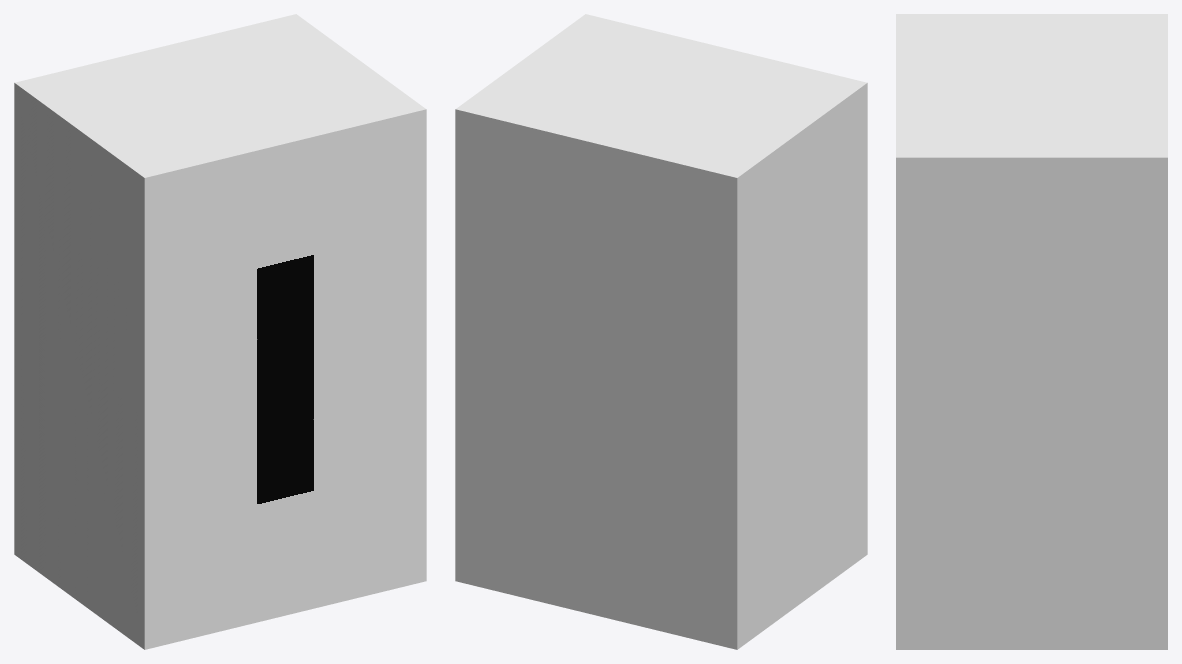
File: Body.dae
3 views of the same model, side by side, from view 1: azimuth 30°, elevation 25°; view 2: azimuth 150°, elevation 25°; view 3: azimuth 270°, elevation 25° (orthographic). The views are drawn at different scales.
Parts seen in each view (by area): view 1: Body; view 2: Body; view 3: Body.
Boxes of the visible parts, bbox=[...] form: Body: bbox=[14, 14, 426, 649]; Body: bbox=[455, 14, 867, 649]; Body: bbox=[896, 14, 1167, 649].
Size of the model in its own units: 5 by 8 by 4.
Materials: 1 (1 with a texture image).
